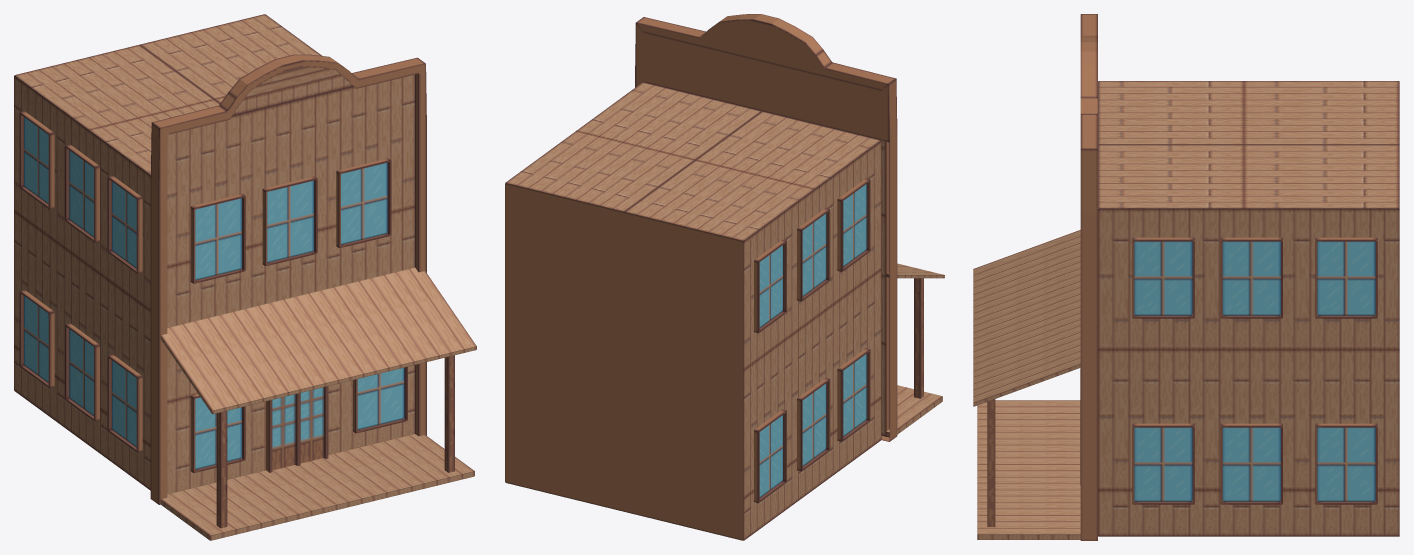
File: Nha_3.fbx
3 views of the same model, side by side, from view 1: azimuth 30°, elevation 25°; view 2: azimuth 150°, elevation 25°; view 3: azimuth 270°, elevation 25° (orthographic). The views are drawn at different scales.
Parts seen in each view (by area): view 1: cuboid, cuboid_1, cuboid_3, cuboid_11, cuboid_12, cuboid_13, cuboid_16, cuboid_14, cuboid_20, cuboid_21, cuboid_18, cuboid_23 (+6 smaller); view 2: cuboid, cuboid_21, cuboid_20, cuboid_19, cuboid_22, cuboid_18, cuboid_23, cuboid_3, cuboid_24; view 3: cuboid, cuboid_1, cuboid_3, cuboid_6, cuboid_7, cuboid_8, cuboid_9, cuboid_5, cuboid_10, cuboid_2.
Boxes of the visible parts, x1,y1,x2,y2 form: cuboid: [14, 14, 426, 504]; cuboid_1: [160, 267, 476, 414]; cuboid_3: [160, 434, 474, 540]; cuboid_11: [190, 194, 245, 283]; cuboid_12: [262, 176, 317, 265]; cuboid_13: [336, 158, 391, 247]; cuboid_16: [353, 367, 407, 433]; cuboid_14: [190, 394, 245, 472]; cuboid_20: [107, 175, 142, 273]; cuboid_21: [107, 354, 142, 452]; cuboid_18: [19, 111, 54, 209]; cuboid_23: [19, 290, 54, 387]; cuboid: [505, 14, 897, 540]; cuboid_21: [837, 348, 870, 441]; cuboid_20: [837, 178, 870, 271]; cuboid_19: [797, 208, 830, 301]; cuboid_22: [797, 378, 830, 471]; cuboid_18: [754, 239, 786, 332]; cuboid_23: [754, 409, 786, 502]; cuboid_3: [886, 385, 942, 437]; cuboid_24: [914, 278, 923, 398]; cuboid: [1080, 14, 1399, 540]; cuboid_1: [973, 230, 1080, 406]; cuboid_3: [977, 400, 1080, 539]; cuboid_6: [1132, 237, 1194, 318]; cuboid_7: [1315, 237, 1377, 318]; cuboid_8: [1132, 423, 1194, 504]; cuboid_9: [1315, 423, 1377, 504]; cuboid_5: [1220, 237, 1282, 318]; cuboid_10: [1220, 423, 1282, 504]; cuboid_2: [987, 399, 995, 526].
Bounding box in the file's own units: 1000 × 1460 × 1325.
1 material, 1 textured.
